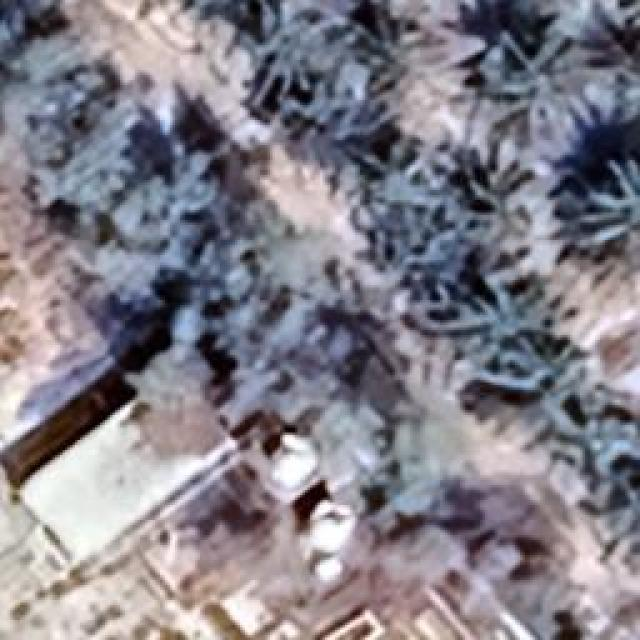PalmTree: (133, 116, 503, 213), (458, 30, 620, 175), (457, 348, 605, 450), (364, 160, 458, 255), (110, 74, 322, 116), (448, 282, 558, 356), (572, 166, 640, 269), (358, 0, 490, 21), (615, 40, 640, 140), (621, 38, 640, 144), (604, 0, 640, 51)
